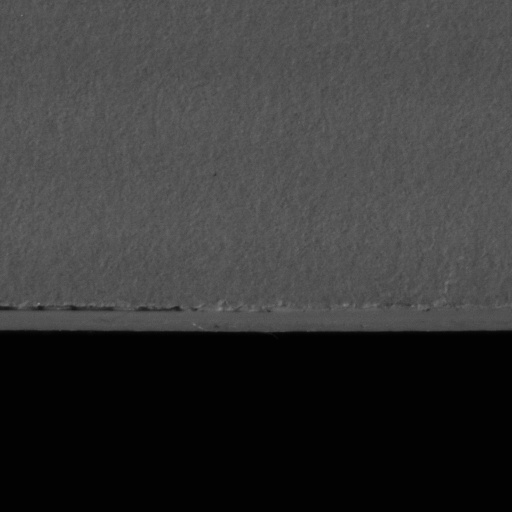jiaofeng: (0, 303, 184, 324)
